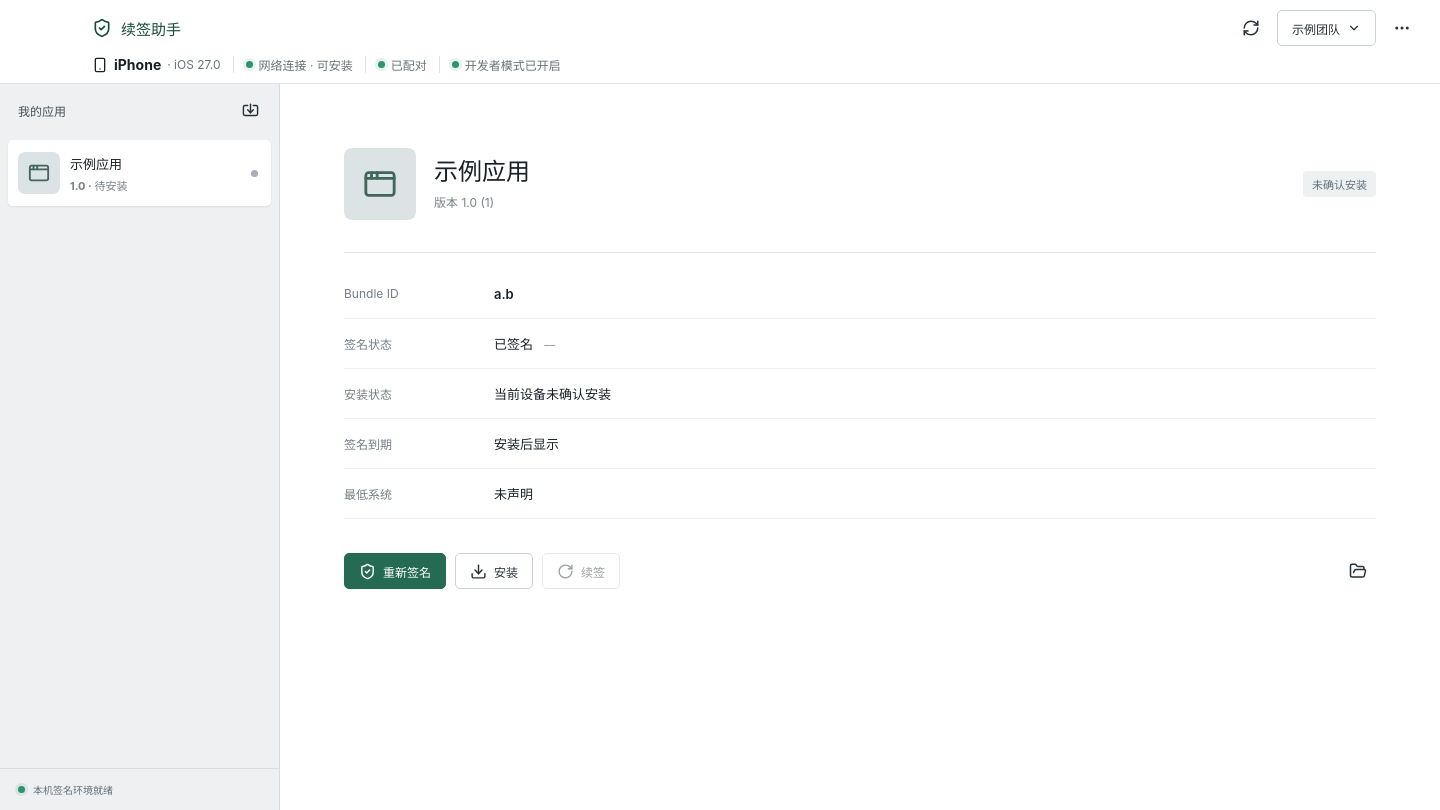
Test: chrome interactions › keeps 安装审计 available from the more menu when the chrome is narrow
The image size is (1440, 810).
Expected: the button with aria-label "账户与团队" is shown, x1=1277 y1=10 x2=1376 y2=46
Expected: the button "安装审计" is not shown
Click the button named "更多": (1402, 28) x1=1384 y1=10 x2=1420 y2=46
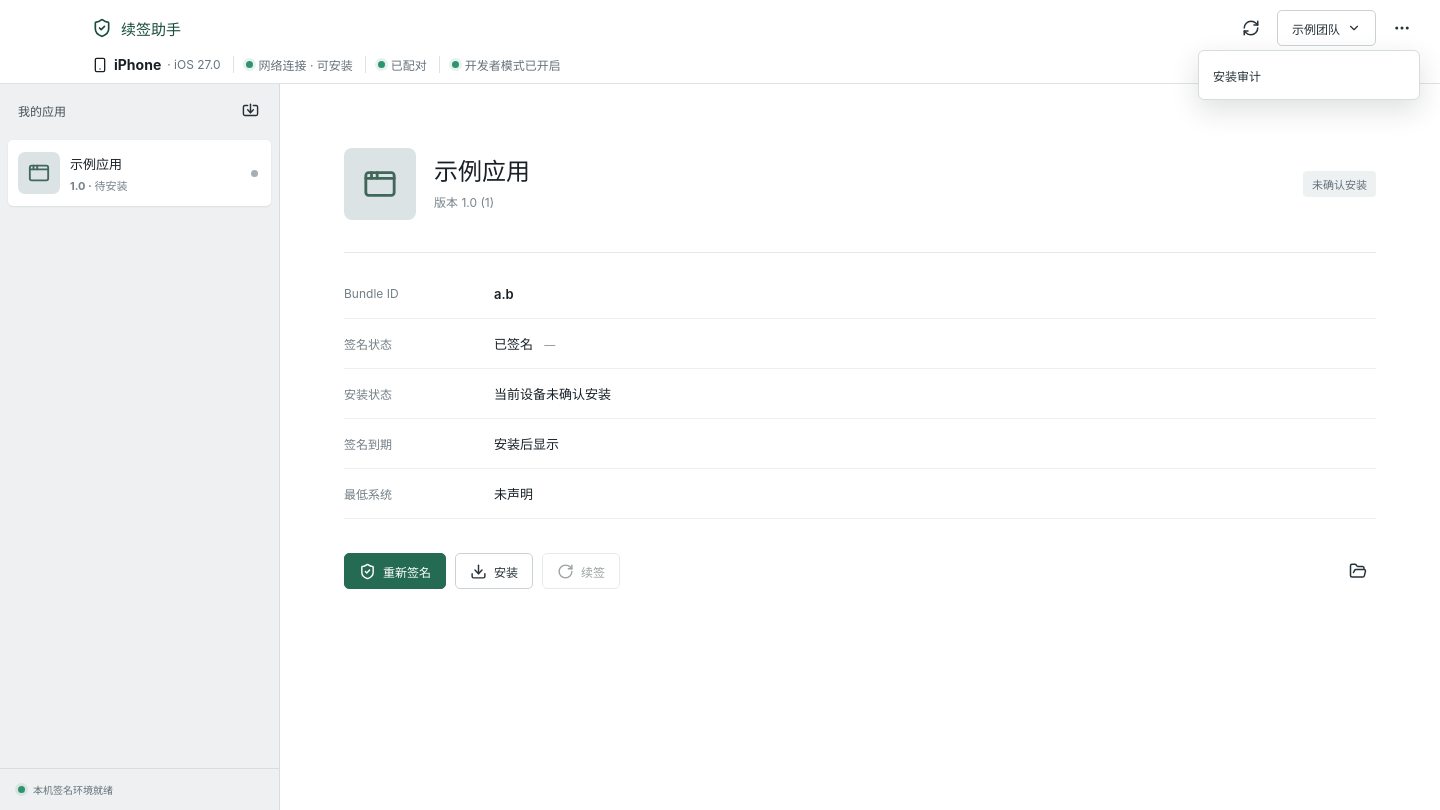
Result: the menu item "安装审计" is shown at x1=1199 y1=57 x2=1419 y2=93
